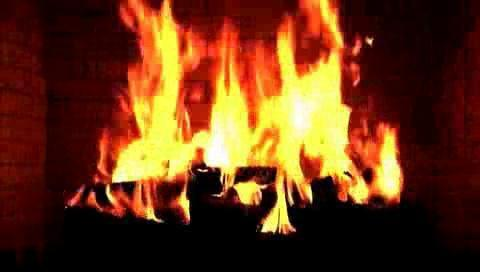fire: (46, 1, 428, 236)
